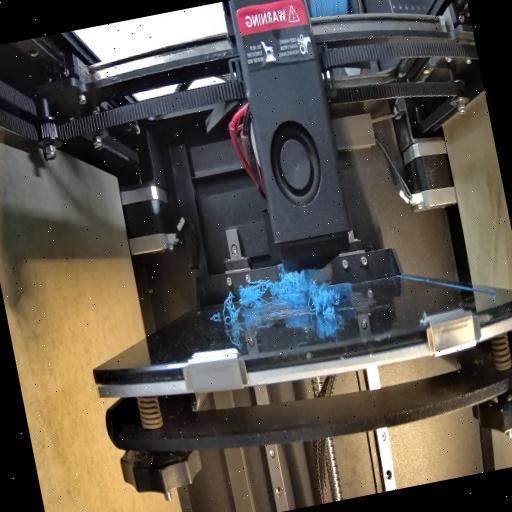spaghetti: (236, 264, 326, 314), (304, 279, 350, 323), (218, 292, 244, 334)
